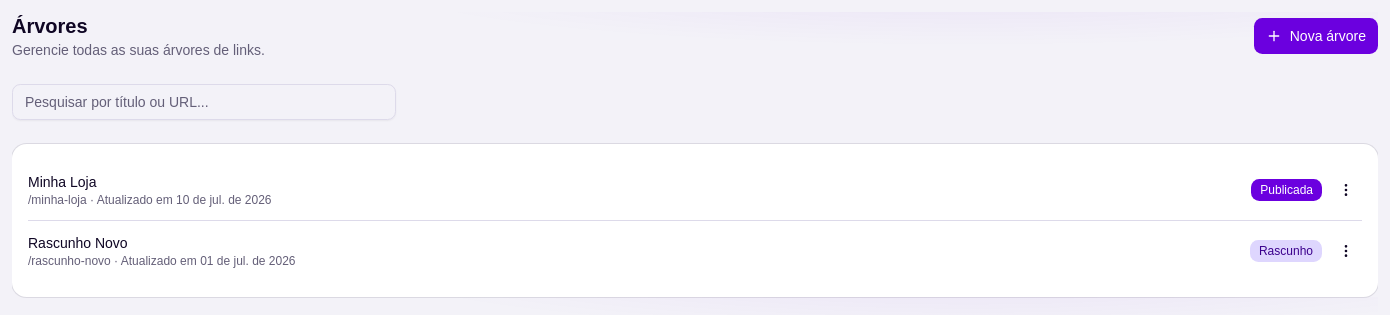
Test: PagesListPage › filtra as arvores pela busca
Expected: the link "Minha Loja" is shown, left=28, top=174, right=96, bottom=190
Expected: the link "Rascunho Novo" is shown, left=28, top=235, right=128, bottom=251
Type "loja" into the field named "Pesquisar árvores" at (204, 102), box left=12, top=84, right=396, bottom=120
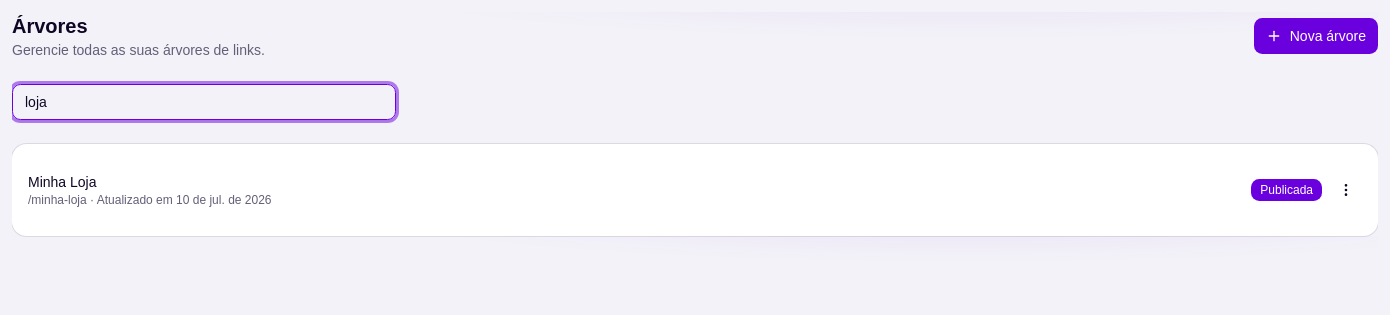
Expected: the link "Minha Loja" is shown, left=28, top=174, right=96, bottom=190
Result: the link "Rascunho Novo" is gone
